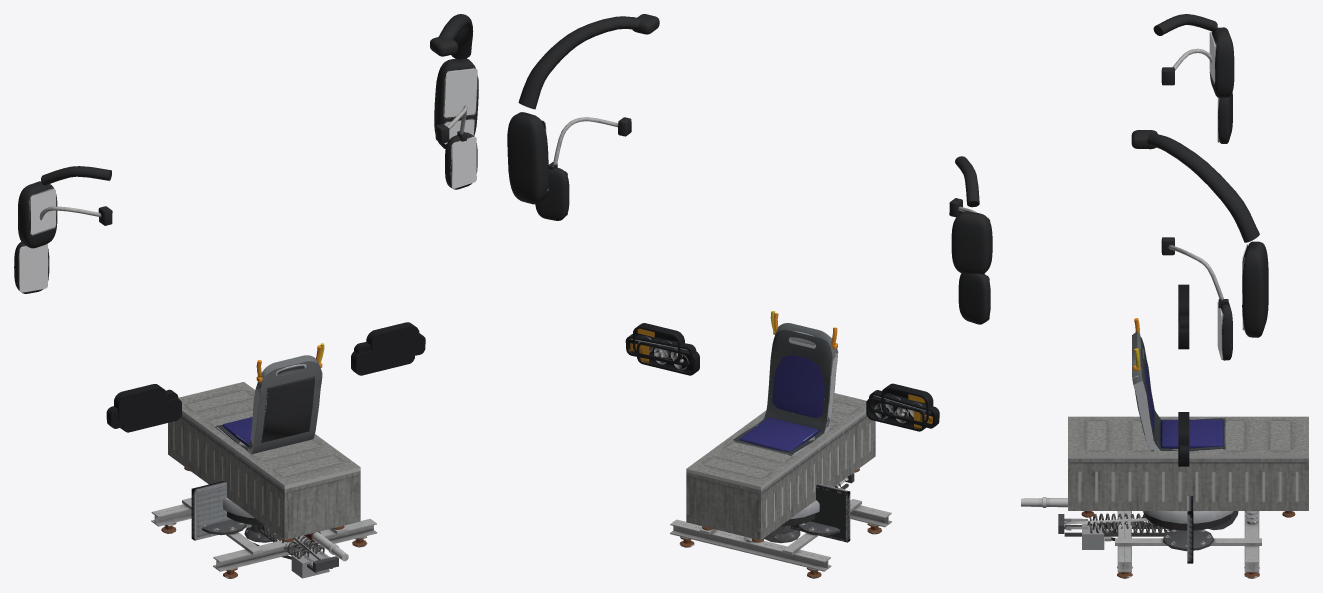
The model's file is kit_trolley.glb.
3 renders of one model, left to right at view 1: azimuth 30°, elevation 25°; view 2: azimuth 150°, elevation 25°; view 3: azimuth 270°, elevation 25°, orthographic. The views are drawn at different scales.
Visible parts, largest first — view 1: resistorGrid, mirrorsSolaris, trolleyBase, mirrorsIkarus, seat_solaris3, seat_e12, headS3, headIkarus, roofLouvre, trolleyTurret, headS4; view 2: resistorGrid, mirrorsSolaris, seat_solaris3, trolleyBase, mirrorsIkarus, seat_ikarus, headS3, headS4, headIkarus, roofLouvre, seat_e12; view 3: resistorGrid, mirrorsSolaris, trolleyBase, mirrorsIkarus, seat_solaris3, trolleyTurret, roofFan, seat_ikarus, seat_e12, headS3, roofLouvre, poleTube.
Boxes of the visible parts, bbox=[...] form: resistorGrid: bbox=[168, 382, 360, 542]; mirrorsSolaris: bbox=[18, 14, 478, 248]; trolleyBase: bbox=[151, 497, 377, 578]; mirrorsIkarus: bbox=[14, 105, 477, 293]; seat_solaris3: bbox=[216, 355, 322, 454]; seat_e12: bbox=[215, 345, 322, 453]; headS3: bbox=[114, 322, 419, 424]; headIkarus: bbox=[120, 342, 414, 432]; roofLouvre: bbox=[191, 481, 251, 540]; trolleyTurret: bbox=[244, 525, 338, 572]; headS4: bbox=[106, 333, 425, 428]; resistorGrid: bbox=[686, 393, 875, 542]; mirrorsSolaris: bbox=[507, 14, 992, 274]; seat_solaris3: bbox=[733, 323, 838, 455]; trolleyBase: bbox=[670, 487, 891, 578]; mirrorsIkarus: bbox=[535, 117, 990, 324]; seat_ikarus: bbox=[733, 311, 832, 454]; headS3: bbox=[633, 323, 933, 424]; headS4: bbox=[625, 334, 939, 428]; headIkarus: bbox=[637, 341, 926, 431]; roofLouvre: bbox=[791, 484, 850, 542]; seat_e12: bbox=[732, 313, 837, 456]; resistorGrid: bbox=[1068, 416, 1308, 517]; mirrorsSolaris: bbox=[1131, 14, 1268, 337]; trolleyBase: bbox=[1082, 511, 1261, 578]; mirrorsIkarus: bbox=[1161, 48, 1232, 360]; seat_solaris3: bbox=[1132, 331, 1226, 451]; trolleyTurret: bbox=[1058, 513, 1172, 536]; roofFan: bbox=[1143, 511, 1233, 530]; seat_ikarus: bbox=[1134, 337, 1225, 450]; seat_e12: bbox=[1133, 342, 1226, 451]; headS3: bbox=[1178, 284, 1189, 459]; roofLouvre: bbox=[1187, 496, 1193, 563]; poleTube: bbox=[1021, 497, 1067, 507].
Bounding box in the file's own units: 3.38 × 3.26 × 1.72.
Materials: 1 (1 with a texture image).
